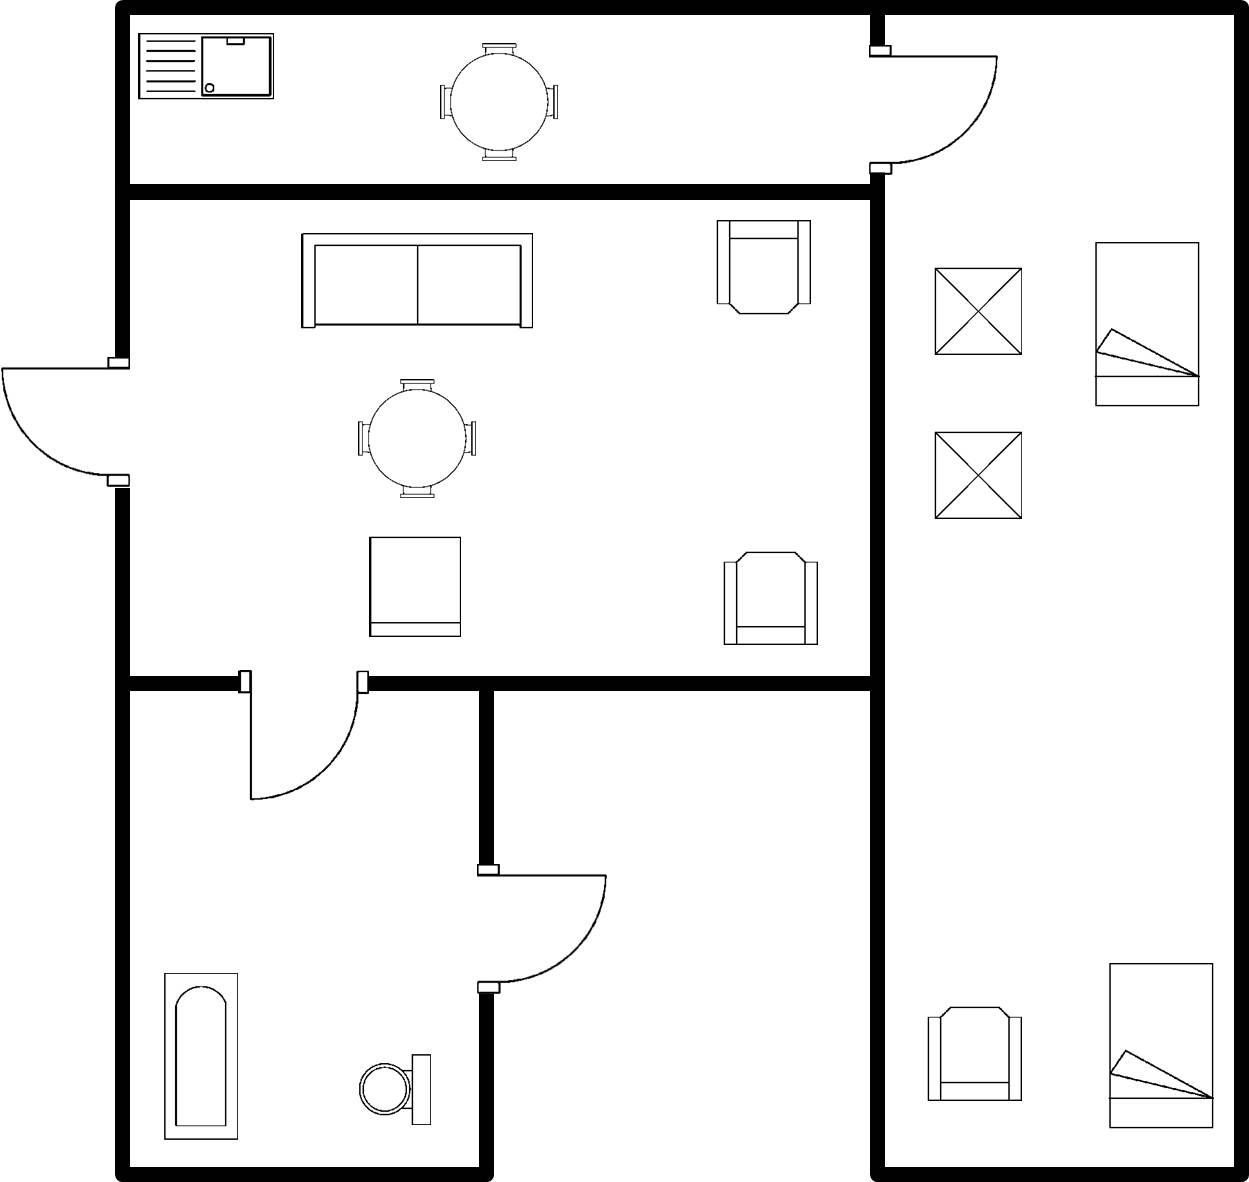bed: (1100, 953, 1220, 1135), (1089, 234, 1205, 412)
round_table: (342, 365, 498, 505), (433, 34, 564, 164)
sink: (132, 26, 281, 106)
sofa: (294, 226, 539, 334)
toilet: (351, 1044, 437, 1133)
tub: (157, 965, 244, 1149)
